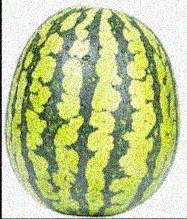watermelon: (6, 5, 178, 218)
